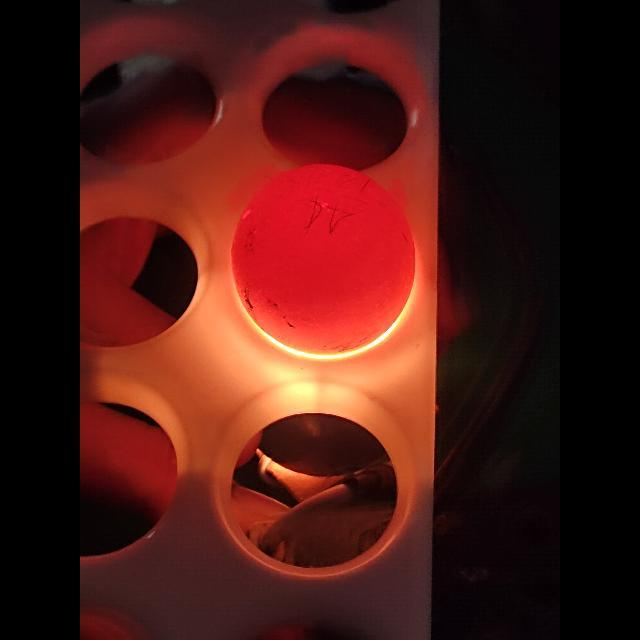Infertile: (232, 158, 413, 342)
